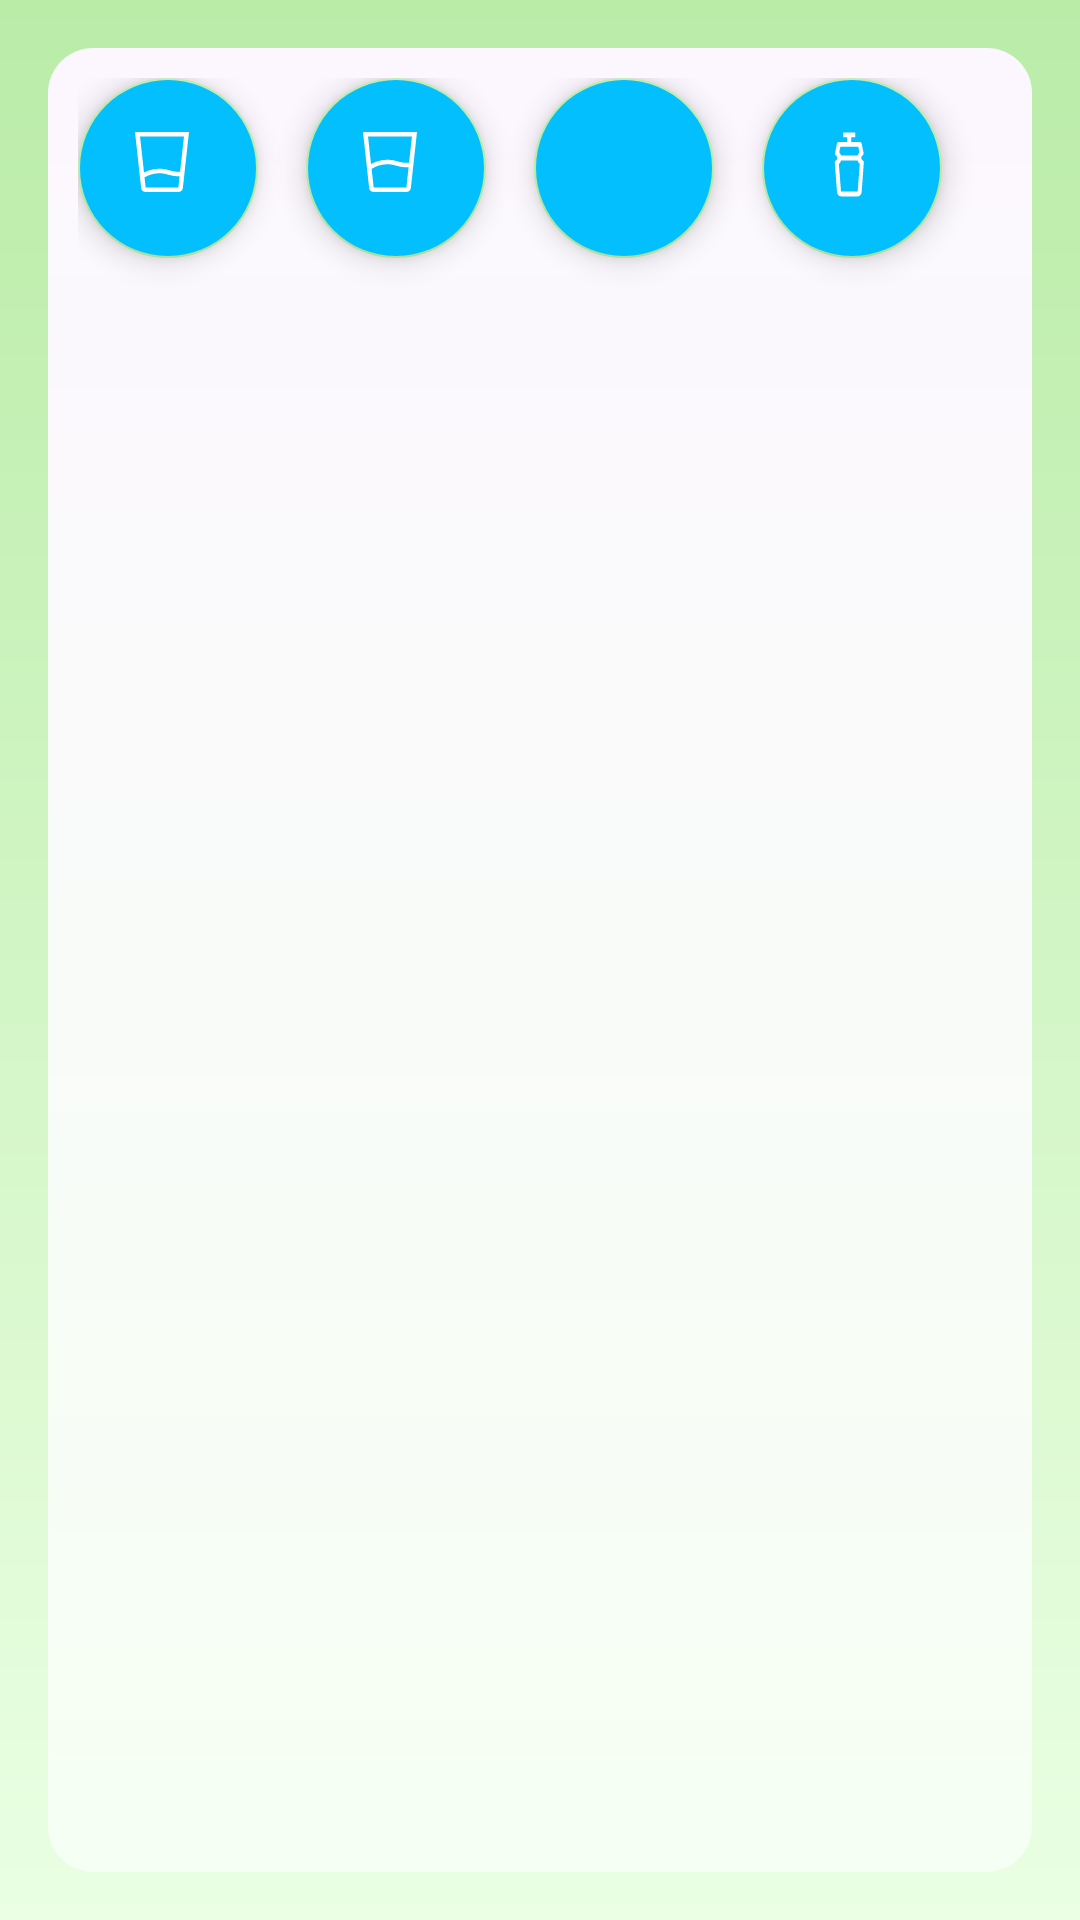

Where icons sit on this 1080px×1920px app screen, as (x1, y1, x2, y2):
water bottle: (762, 78, 942, 258)
water loss: (78, 78, 258, 258)
water medium: (306, 78, 486, 258)
